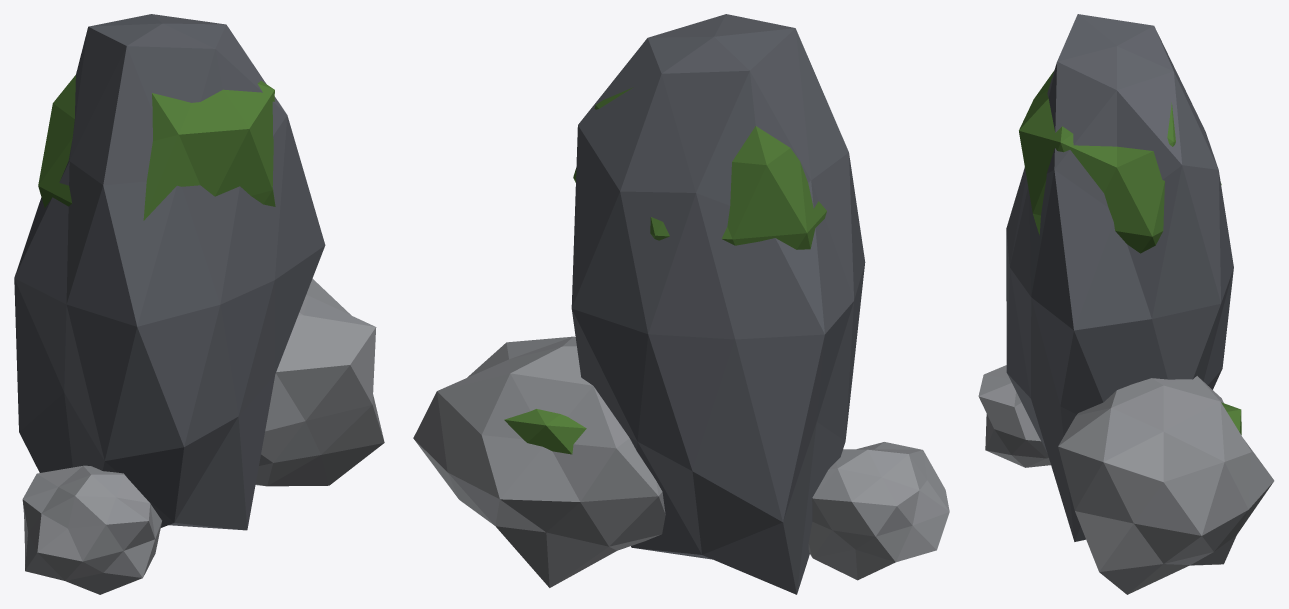
Rendered from rock_b.glb.
The picture shows the model from 3 angles, left to right: view 1: azimuth 30°, elevation 25°; view 2: azimuth 150°, elevation 25°; view 3: azimuth 270°, elevation 25°; orthographic projection. The views are drawn at different scales.
Parts seen in each view (by area): view 1: rock_b; view 2: rock_b; view 3: rock_b.
Boxes of the visible parts, x1,y1,x2,y2 form: rock_b: (14,14,384,594); rock_b: (413,14,949,594); rock_b: (978,14,1274,594).
Size of the model in its own units: 1.91 by 2.28 by 1.27.
